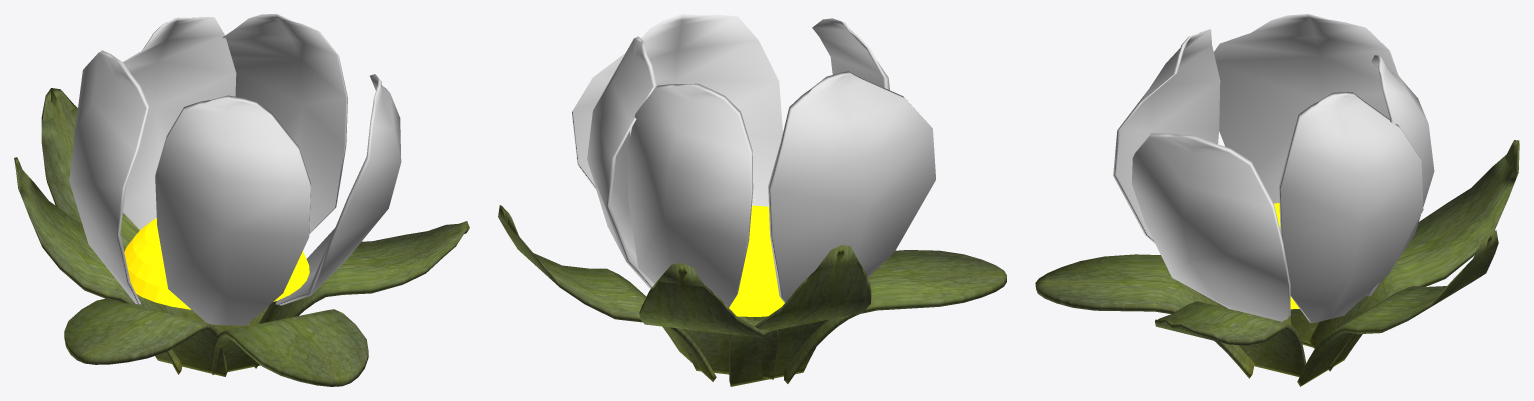
3 renders of one model, left to right at view 1: azimuth 30°, elevation 25°; view 2: azimuth 150°, elevation 25°; view 3: azimuth 270°, elevation 25°, orthographic. The views are drawn at different scales.
Parts seen in each view (by area): view 1: calyx1_001.003, calyx1_001.005, calyx1_001.006, calyx1_001.004, calyx1.001, calyx1_001.002, calyx1_001.001, calyx3_001, calyx3.001, calyx3.002, Sphere.001; view 2: calyx1_001.006, calyx1_001.004, calyx1_001.001, calyx3.001, calyx1_001.005, calyx1_001.002, calyx3.002, calyx3, Sphere.001, calyx1_001.003; view 3: calyx1_001.005, calyx1_001.001, calyx1_001.006, calyx3.002, calyx1_001.003, calyx1.001, calyx3_001, calyx3, calyx1_001.004, calyx3.001.
Boxes of the visible parts, x1,y1,x2,y2 form: calyx1_001.003: [155, 95, 310, 325]; calyx1_001.005: [222, 14, 347, 233]; calyx1_001.006: [69, 50, 149, 304]; calyx1_001.004: [123, 16, 236, 229]; calyx1.001: [211, 309, 368, 386]; calyx1_001.002: [64, 298, 227, 376]; calyx1_001.001: [275, 74, 401, 305]; calyx3_001: [252, 221, 469, 368]; calyx3.001: [14, 157, 182, 374]; calyx3.002: [41, 88, 225, 333]; Sphere.001: [124, 218, 309, 309]; calyx1_001.006: [768, 71, 935, 302]; calyx1_001.004: [626, 83, 753, 307]; calyx1_001.001: [572, 14, 782, 206]; calyx3.001: [729, 245, 871, 386]; calyx1_001.005: [587, 36, 656, 288]; calyx1_001.002: [784, 250, 1006, 383]; calyx3.002: [639, 263, 778, 379]; calyx3: [498, 205, 716, 381]; Sphere.001: [729, 205, 784, 316]; calyx1_001.003: [812, 18, 889, 90]; calyx1_001.005: [1279, 92, 1423, 323]; calyx1_001.001: [1131, 133, 1290, 321]; calyx1_001.006: [1213, 14, 1398, 203]; calyx3.002: [1309, 140, 1519, 371]; calyx1_001.003: [1113, 29, 1220, 243]; calyx1.001: [1035, 254, 1254, 378]; calyx3_001: [1155, 301, 1306, 377]; calyx3: [1297, 230, 1498, 386]; calyx1_001.004: [1365, 55, 1434, 296]; calyx3.001: [1290, 309, 1319, 347].
Size of the model in its own units: 0.0458 by 0.0503 by 0.0349.
2 materials, 1 textured.
